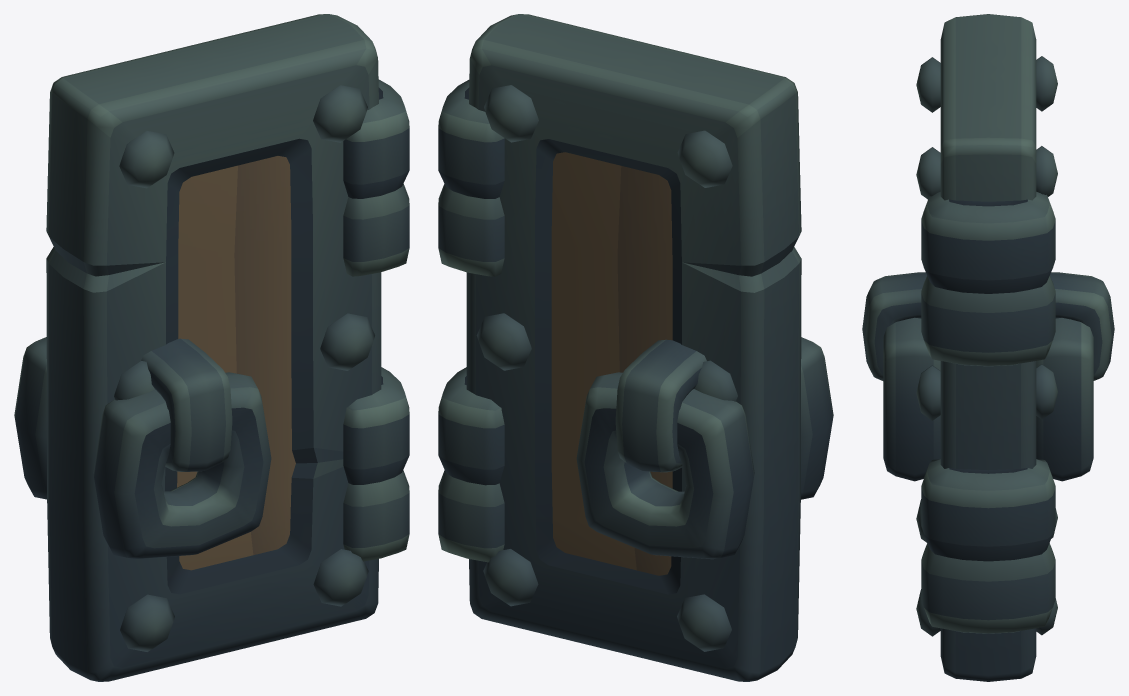
File: door_wood_right.fbx
3 views of the same model, side by side, from view 1: azimuth 30°, elevation 25°; view 2: azimuth 150°, elevation 25°; view 3: azimuth 270°, elevation 25° (orthographic). The views are drawn at different scales.
Parts seen in each view (by area): view 1: door_wood_right, door_handles, door_hinges; view 2: door_wood_right, door_handles, door_hinges; view 3: door_hinges, door_wood_right, door_handles.
Part boxes in pixels (x1,y1,x2,y2): door_wood_right: [46, 14, 381, 681]; door_handles: [14, 337, 271, 559]; door_hinges: [343, 79, 409, 561]; door_wood_right: [466, 14, 801, 681]; door_handles: [576, 337, 833, 559]; door_hinges: [438, 80, 504, 562]; door_hinges: [921, 192, 1055, 633]; door_wood_right: [916, 14, 1057, 681]; door_handles: [862, 272, 1114, 481].
Bounding box in the file's own units: 122 × 203 × 85.54.
